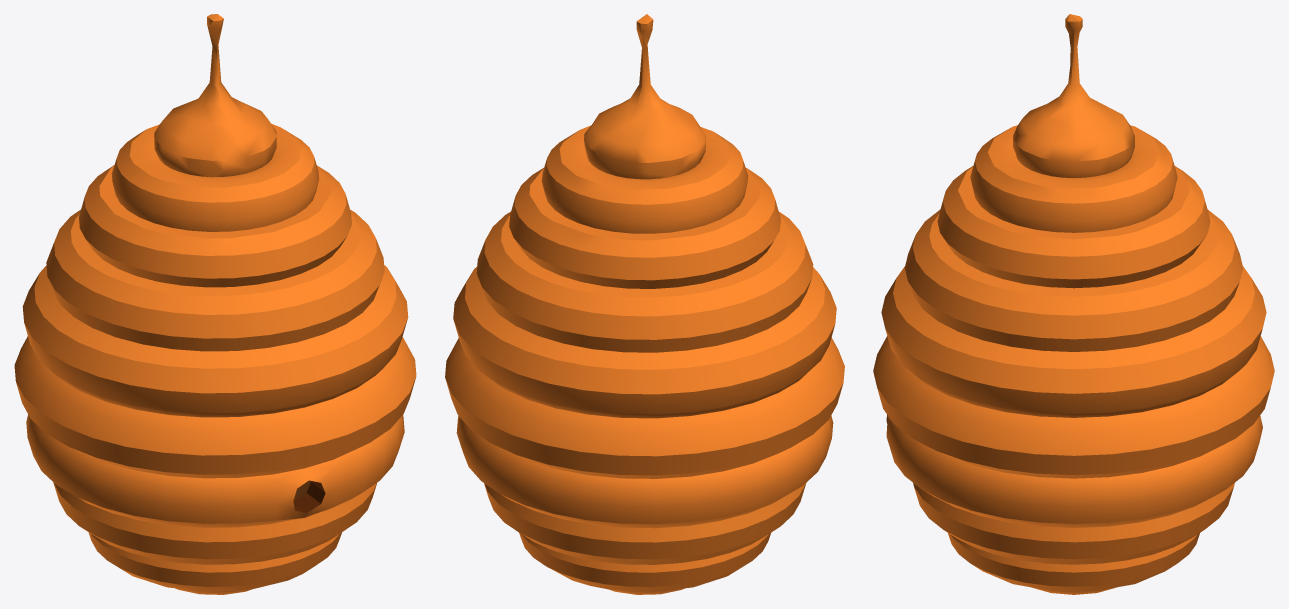
The model's file is Hive.fbx.
3 views of the same model, side by side, from view 1: azimuth 30°, elevation 25°; view 2: azimuth 150°, elevation 25°; view 3: azimuth 270°, elevation 25° (orthographic).
Parts seen in each view (by area): view 1: Hive1; view 2: Hive1; view 3: Hive1.
Boxes of the visible parts, x1,y1,x2,y2 form: Hive1: [14, 14, 416, 594]; Hive1: [445, 14, 844, 594]; Hive1: [873, 14, 1274, 594].
Bounding box in the file's own units: 41.37 × 64.38 × 41.37.
1 material, 1 textured.
